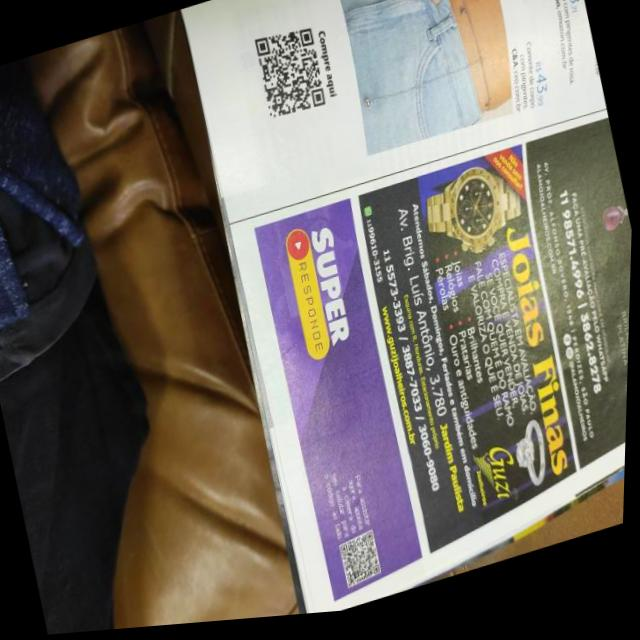qrcode: (253, 28, 329, 128), (341, 539, 385, 595)
